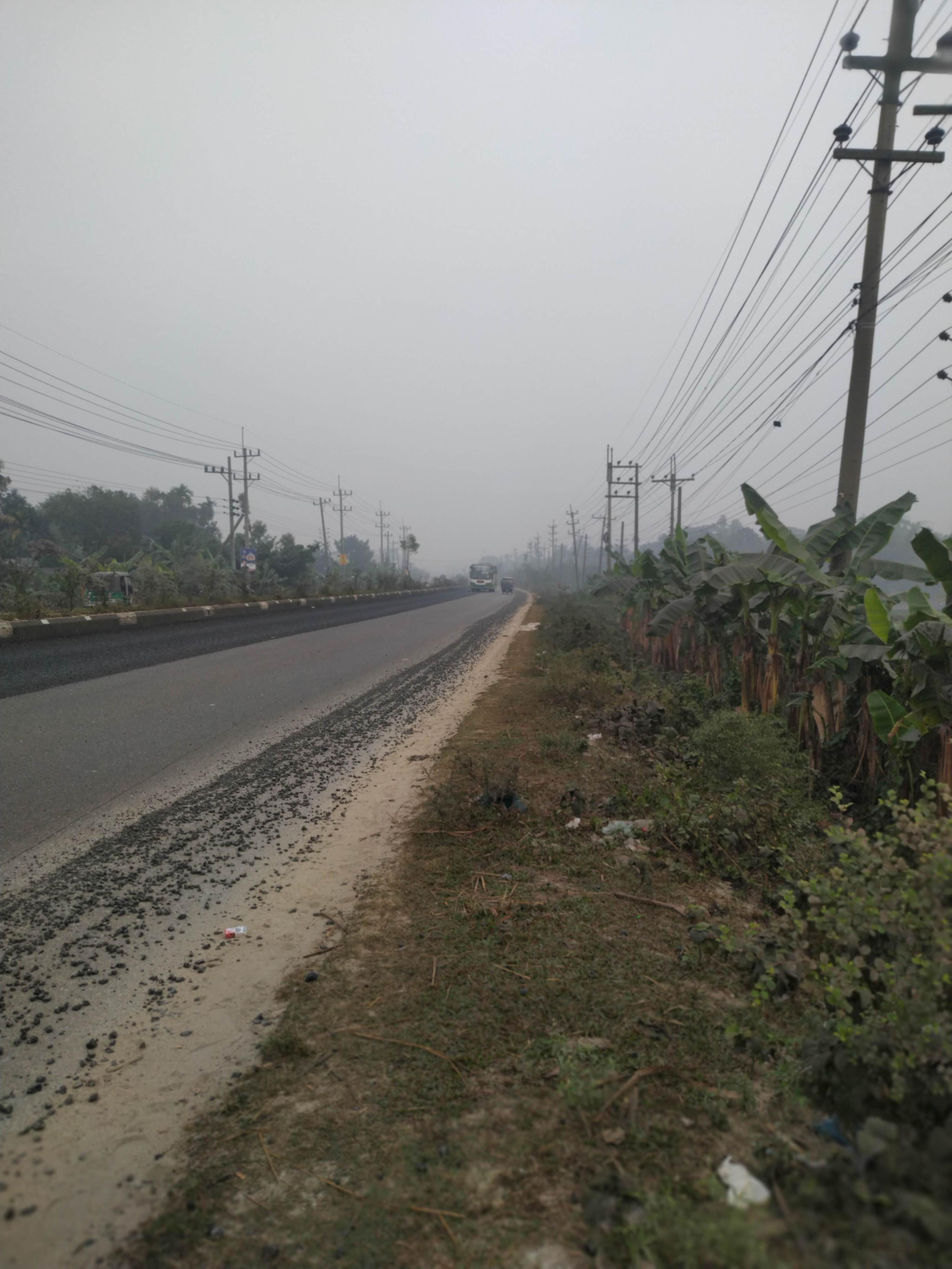Bus: (448, 544, 502, 605)
